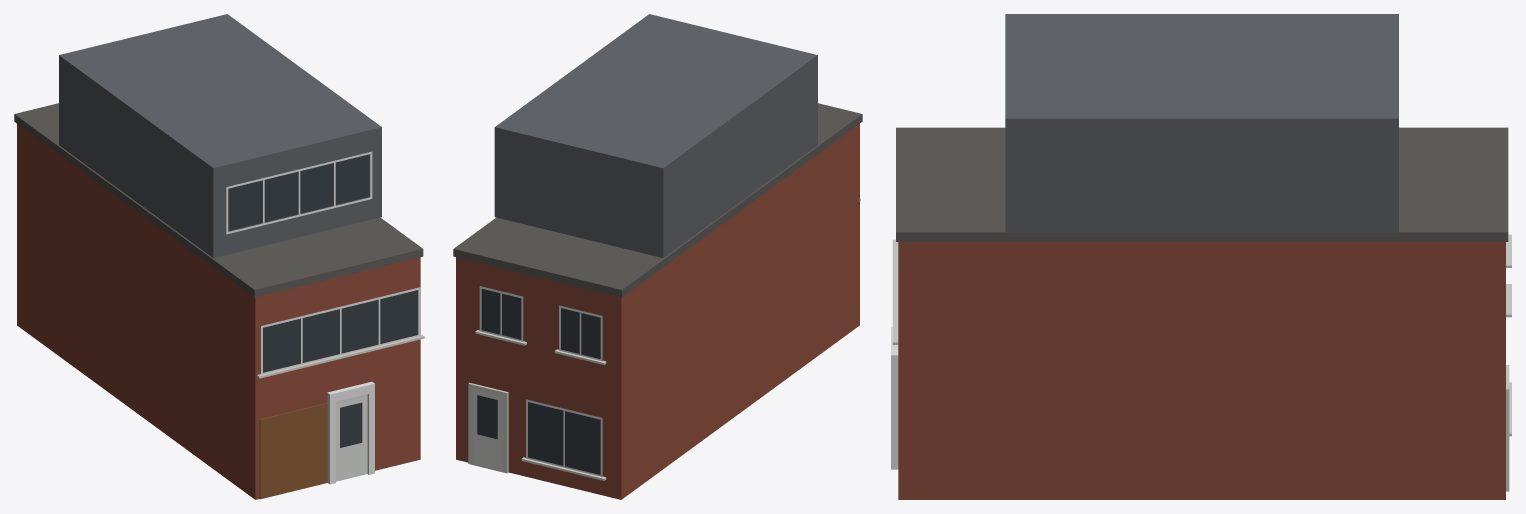
The model's file is nw-os-garage-top__brick__2__flat__long__solid.glb.
The picture shows the model from 3 angles, left to right: view 1: azimuth 30°, elevation 25°; view 2: azimuth 150°, elevation 25°; view 3: azimuth 270°, elevation 25°; orthographic projection. The views are drawn at different scales.
Visible parts, largest first — view 1: nw-os-garage-top__brick__2__flat__long__solid; view 2: nw-os-garage-top__brick__2__flat__long__solid; view 3: nw-os-garage-top__brick__2__flat__long__solid.
Boxes of the visible parts, box(x1,y1,x2,y2) form: nw-os-garage-top__brick__2__flat__long__solid: box(14, 14, 424, 499); nw-os-garage-top__brick__2__flat__long__solid: box(453, 14, 862, 499); nw-os-garage-top__brick__2__flat__long__solid: box(891, 14, 1511, 499).
Bounding box in the file's own units: 5.15 × 8.7 × 12.77.
